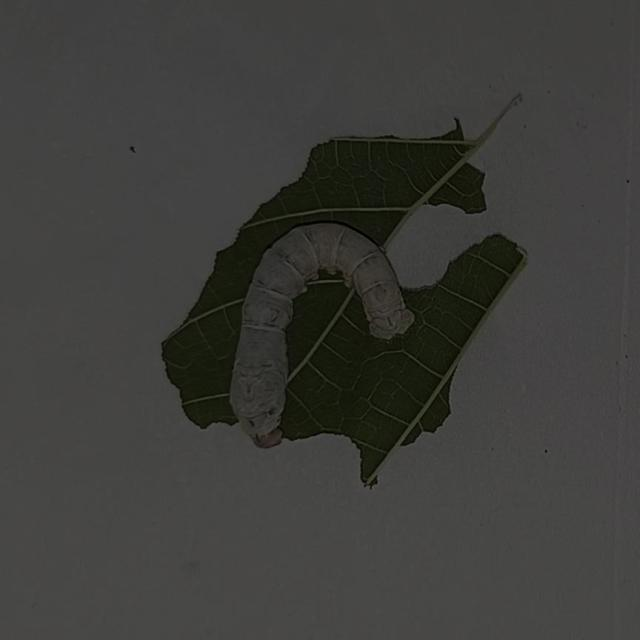Healthy: (205, 199, 424, 465)
